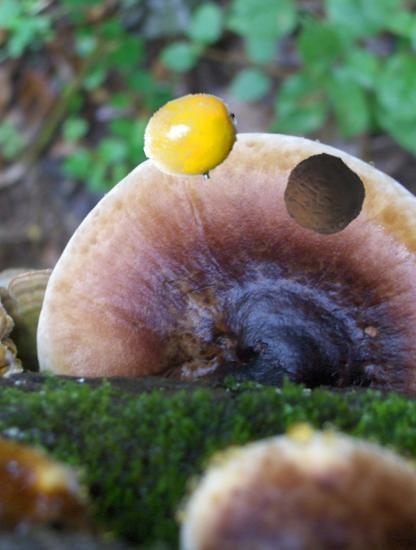Maracuja: (143, 91, 240, 188)
Walnut: (284, 153, 366, 235)
